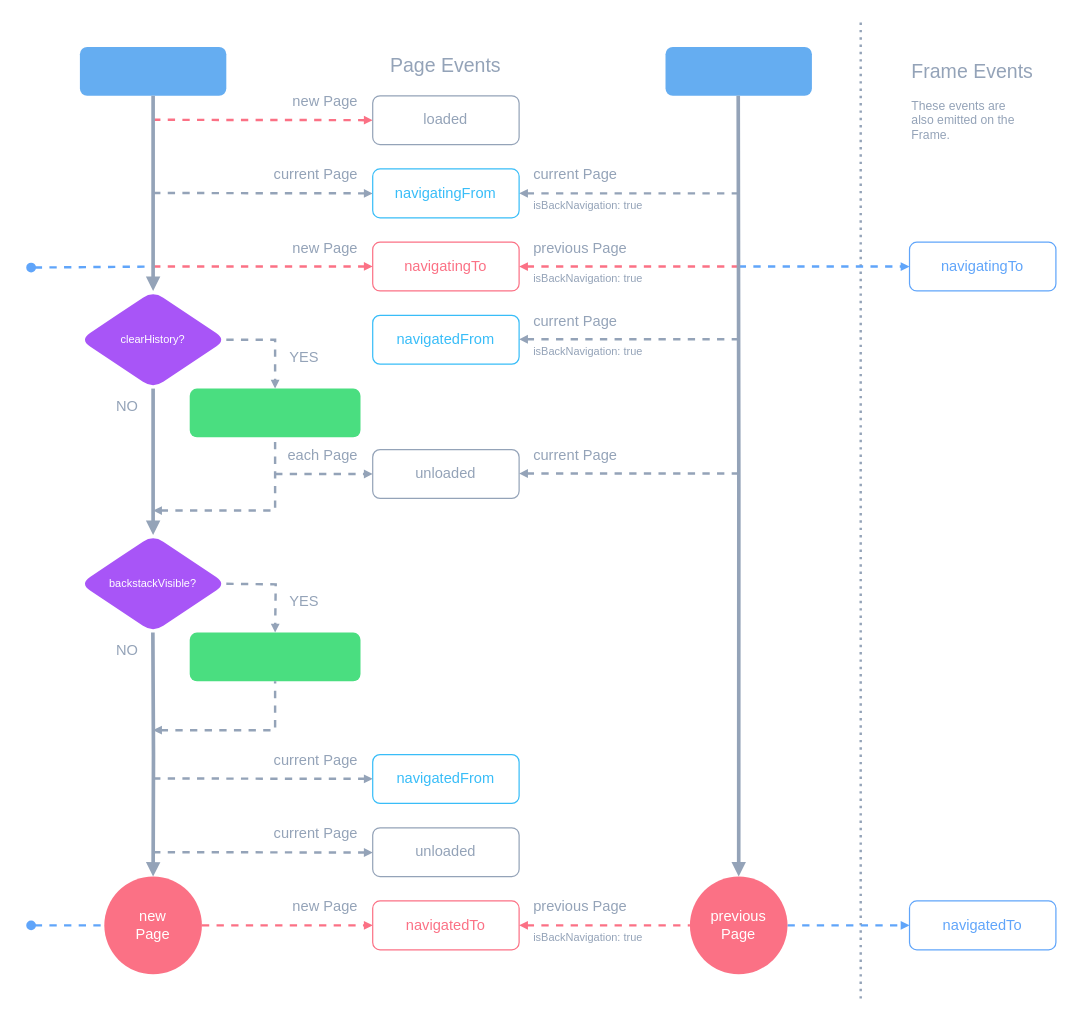
Image size: 1077x1021. Some labels were removed from this diagram. The centre of each missing label's shape, as x and y in pixels:
"clear backstack" goes at (274,412).
"goBack()" goes at (738,70).
"navigate()" goes at (152,70).
"push to backstack" goes at (274,656).
